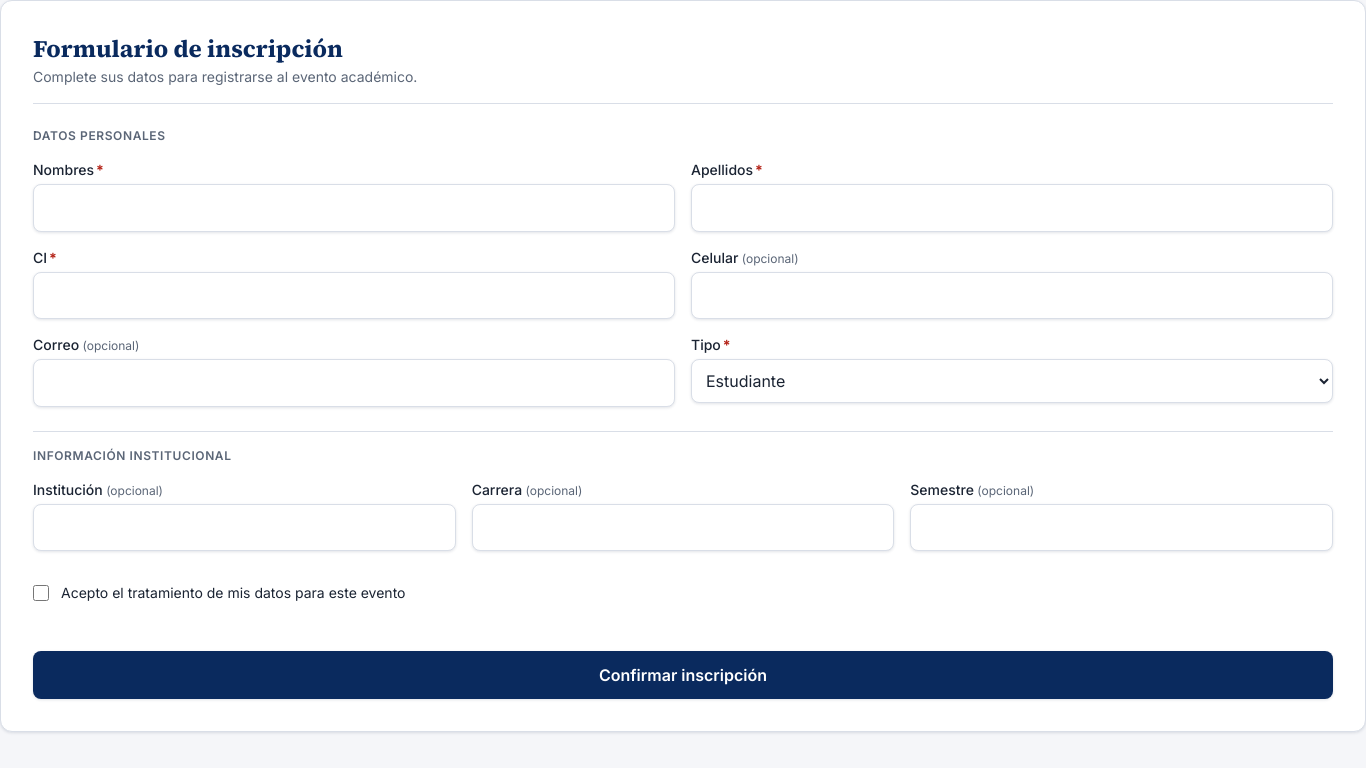
Scenario: RegistrationForm › muestra errores de validación con el formulario vacío
Click the button "Confirmar inscripción". click: (683, 675)
box: [33,651,1333,699]
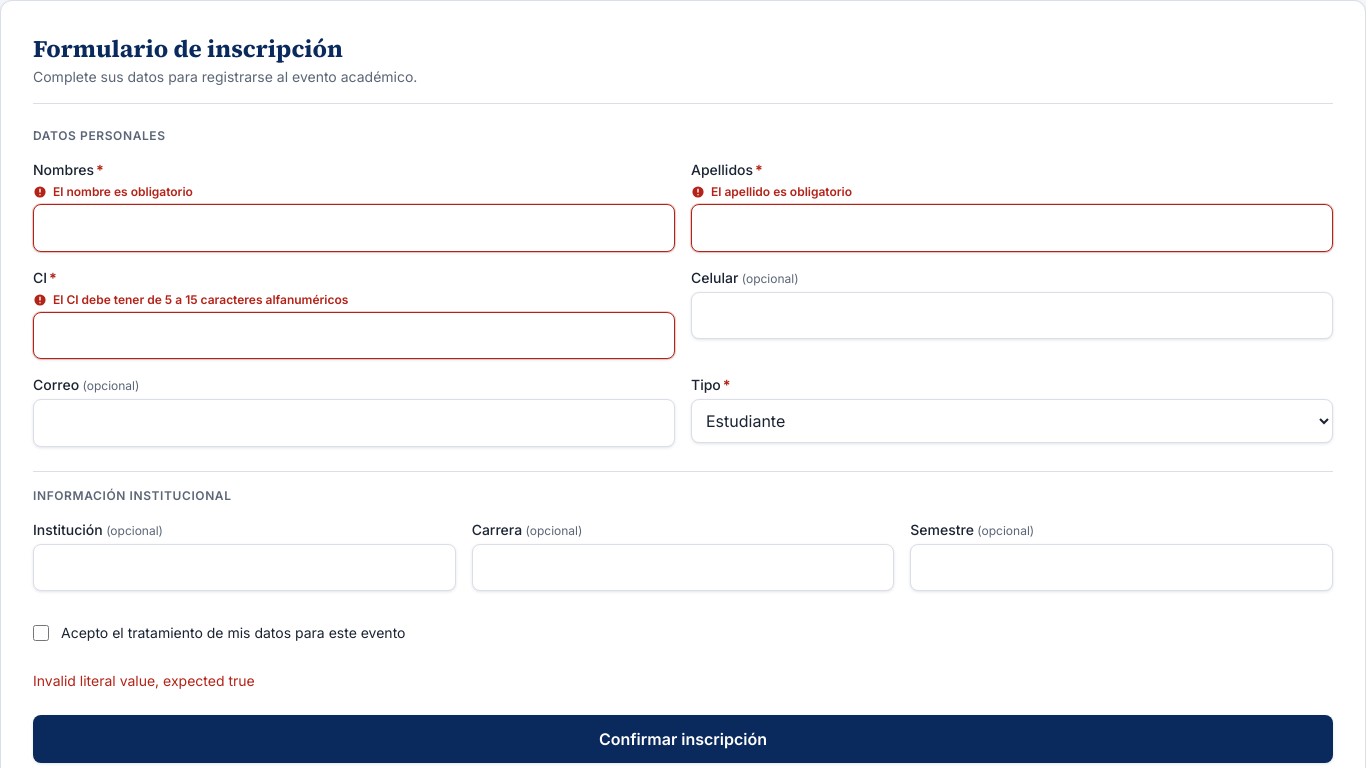
Expected: the text "El nombre es obligatorio" is shown, [53,184,193,200]
